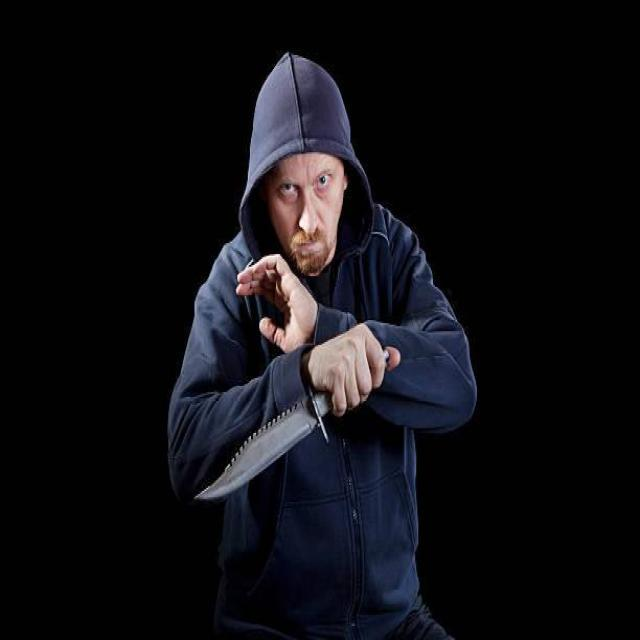faca: (172, 324, 406, 506)
